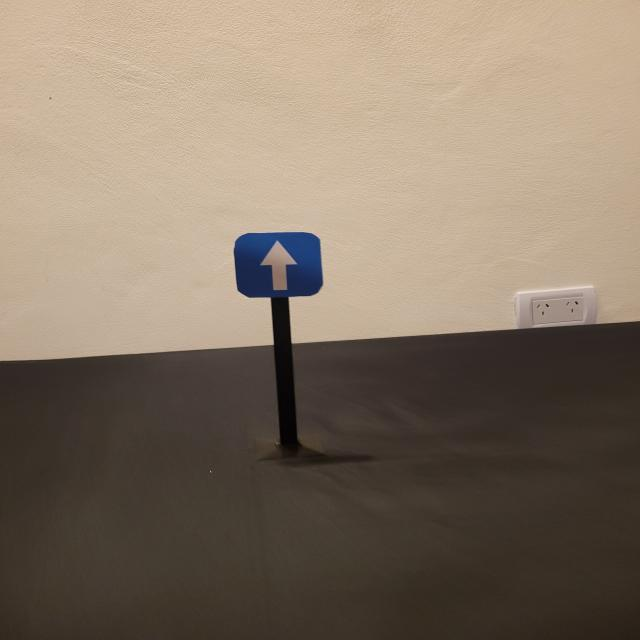one_way: (233, 232, 324, 298)
